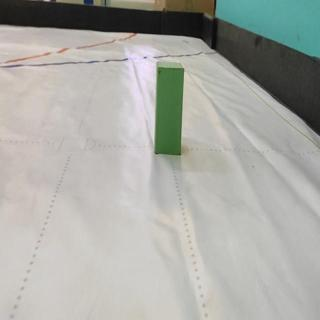greenbox: (154, 60, 186, 156)
